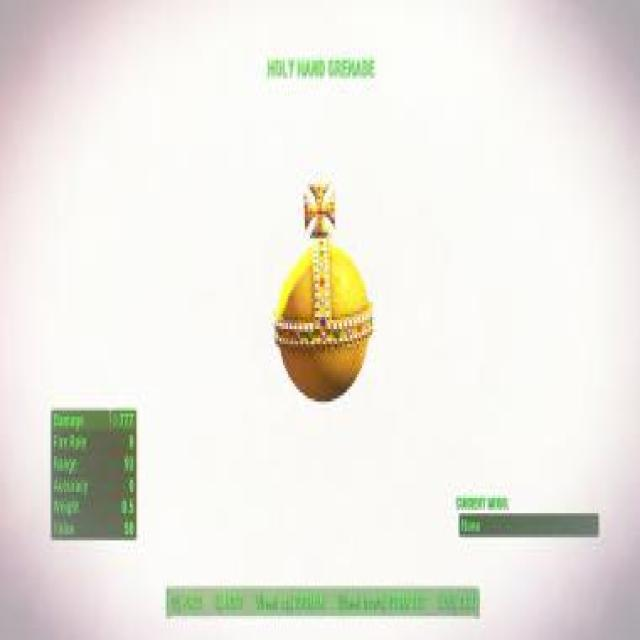grenade: (274, 181, 376, 408)
